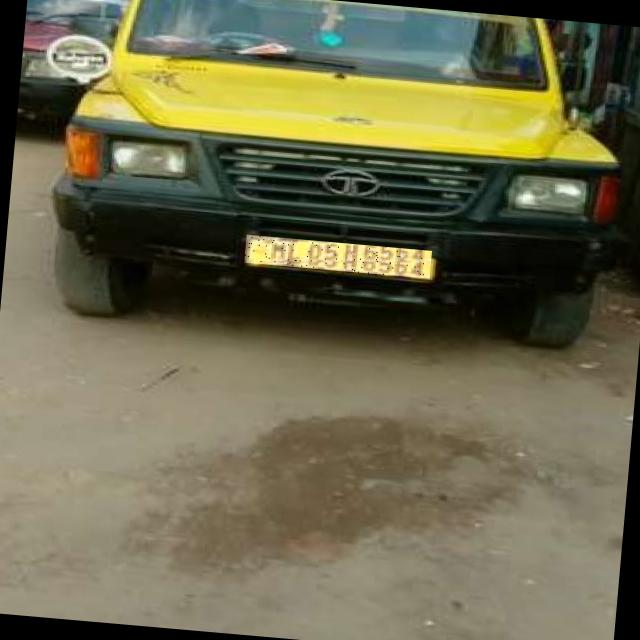Plate: (245, 236, 433, 280)
